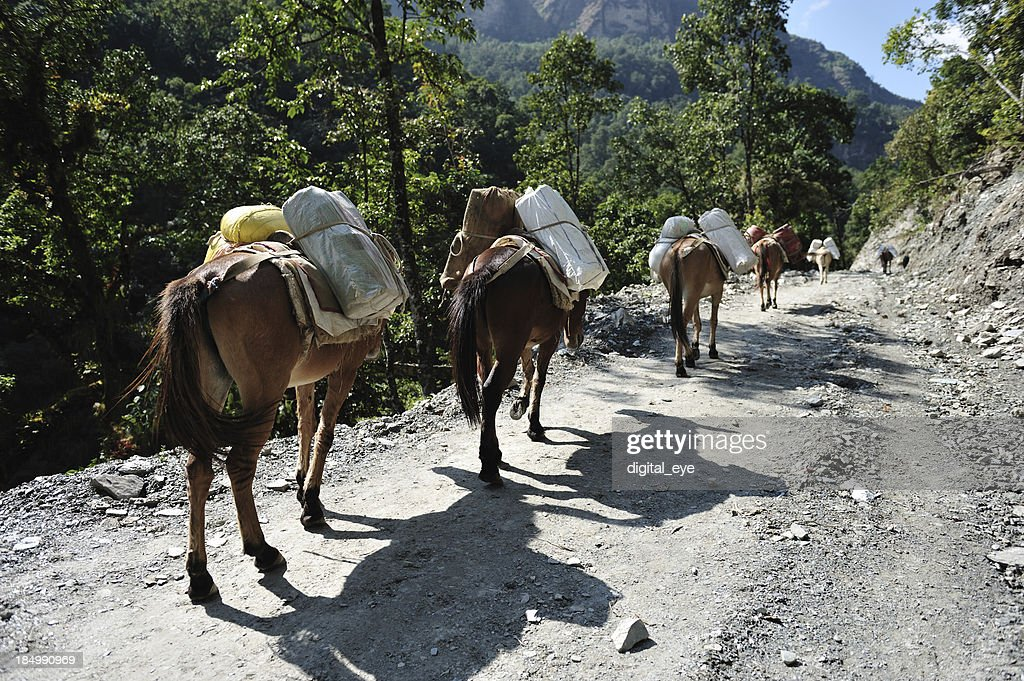equine: (137, 187, 413, 608), (434, 180, 614, 495), (642, 201, 755, 393), (738, 220, 811, 328), (793, 230, 849, 293), (865, 237, 904, 283)
